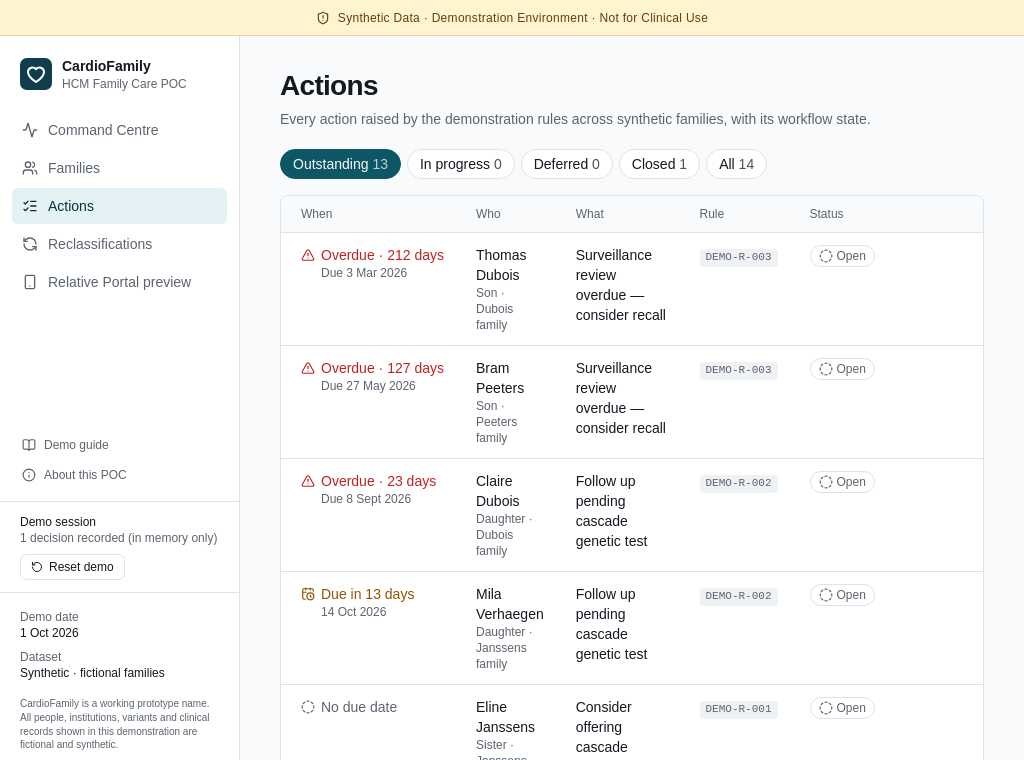
Test: Actions worklist › filters by workflow state with counts from the read model
Expected: the button "Outstanding 13" is shown, left=280, top=149, right=401, bottom=179
Step 1. Click the button "Closed 1" → coordinates (660, 164), box left=619, top=149, right=700, bottom=179
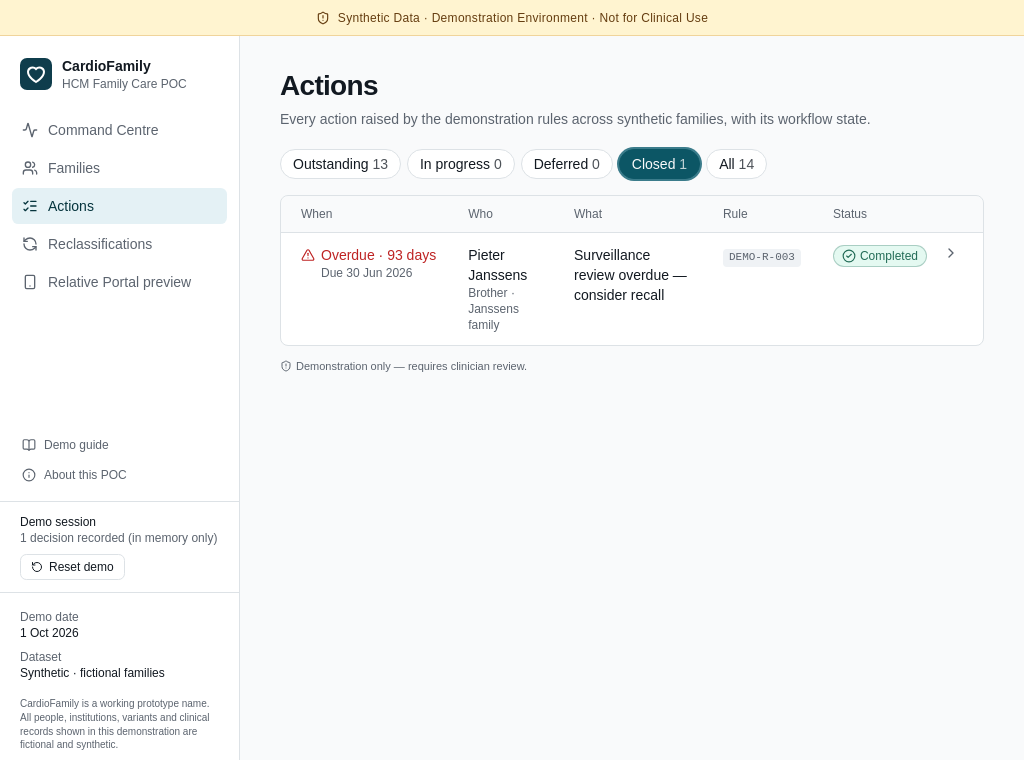
Expected: the number of rows is 2, left=281, top=196, right=983, bottom=232; left=281, top=233, right=983, bottom=345
Expected: the table named "Actions — Closed" shows "Pieter Janssens", left=468, top=247, right=527, bottom=283
Expected: the table named "Actions — Closed" shows "Completed", left=860, top=249, right=918, bottom=263
